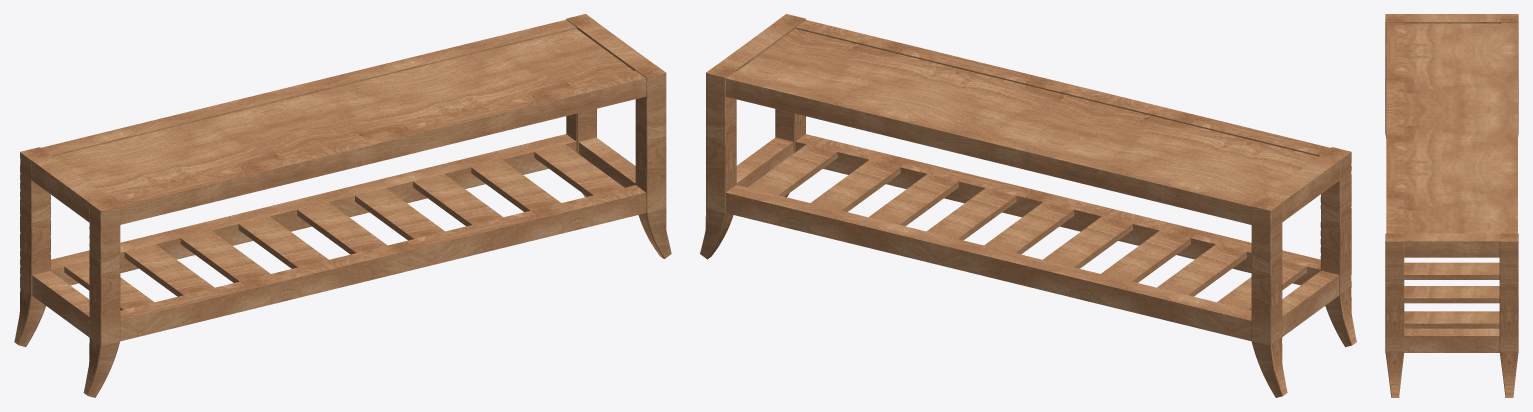
The model's file is bench_ottoman.glb.
3 views of the same model, side by side, from view 1: azimuth 30°, elevation 25°; view 2: azimuth 150°, elevation 25°; view 3: azimuth 270°, elevation 25° (orthographic). The views are drawn at different scales.
Visible parts, largest first — view 1: Swept Blend [2951]__0; view 2: Swept Blend [2951]__0; view 3: Swept Blend [2951]__0.
Boxes of the visible parts, x1,y1,x2,y2 form: Swept Blend [2951]__0: [14, 14, 671, 397]; Swept Blend [2951]__0: [700, 14, 1356, 397]; Swept Blend [2951]__0: [1385, 14, 1518, 397].
Bounding box in the file's own units: 1.46 × 0.452 × 0.3499.
Materials: 1 (1 with a texture image).
